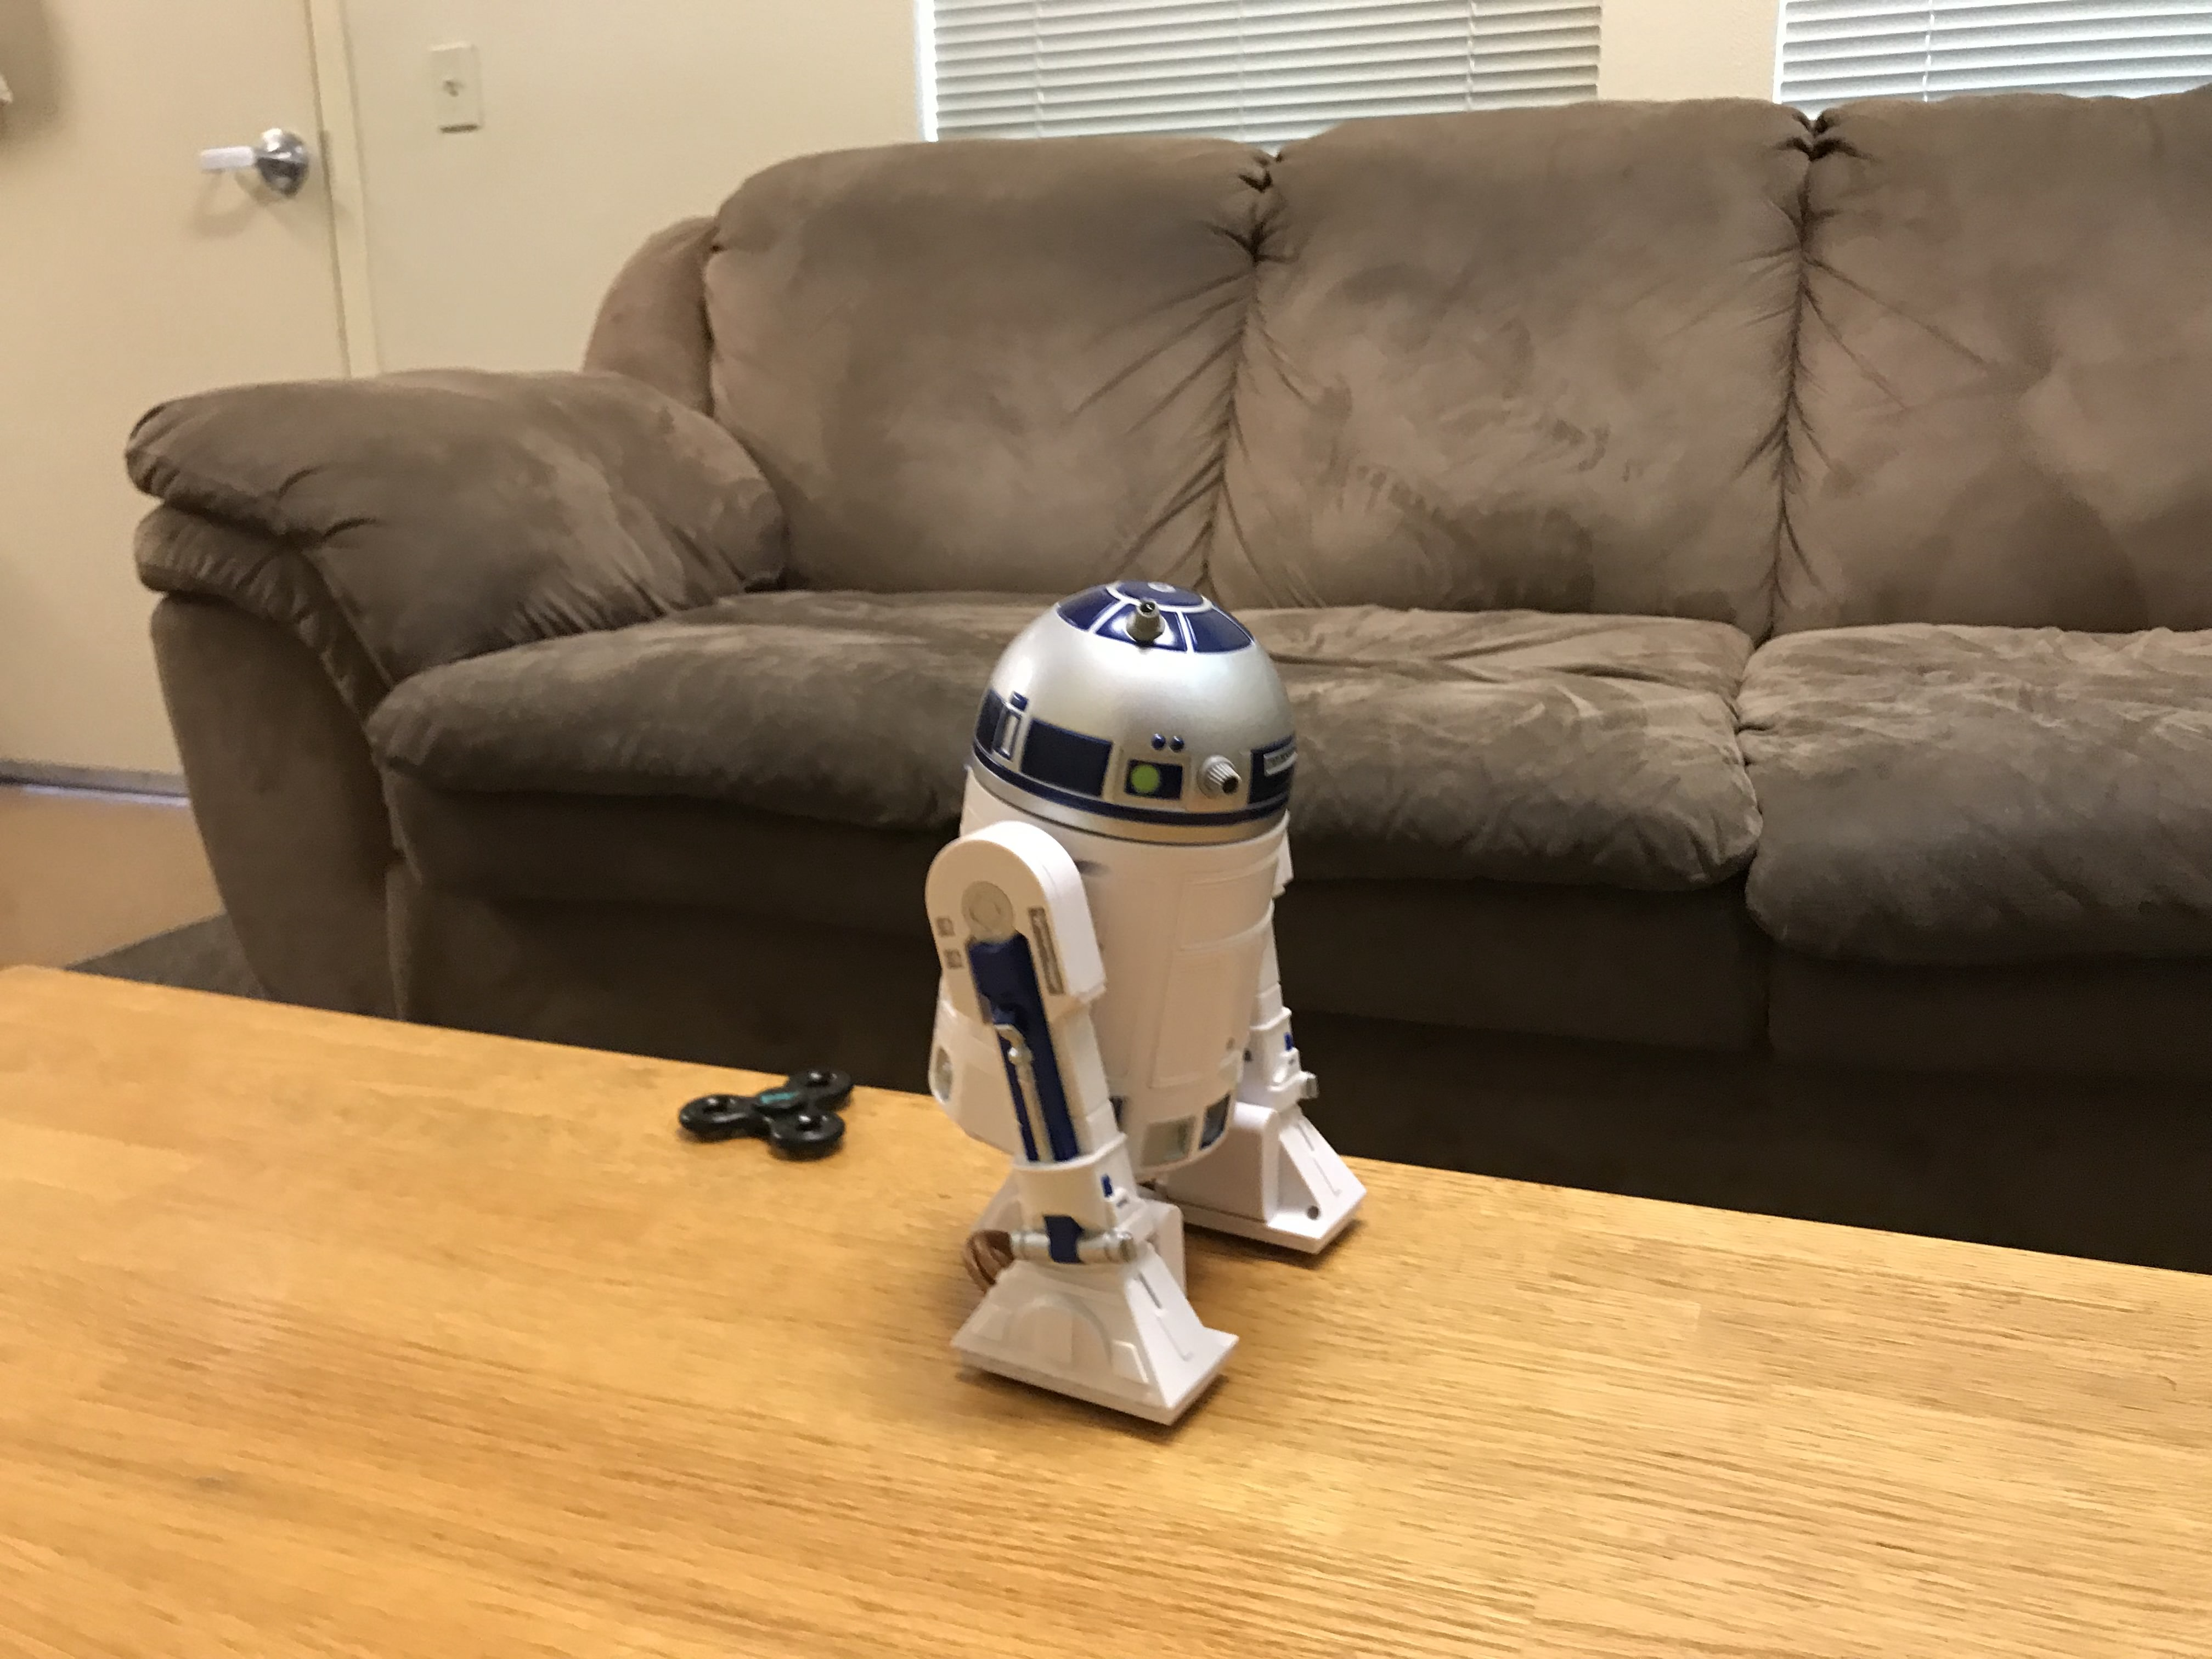r2d2: (928, 577, 1367, 1425)
